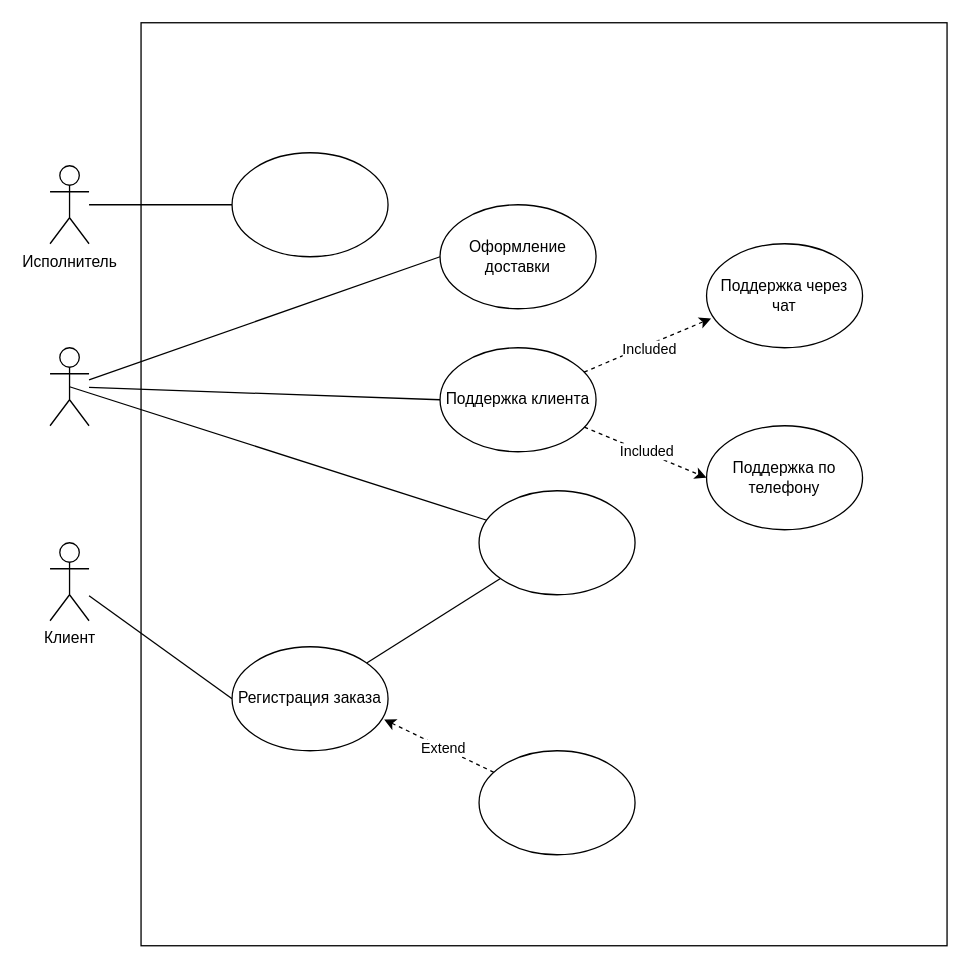
This 970x968 diagram has some shape labels left out. The shapes that lost their labels are listed below. From the top down, each one's centre as x and y in pixels, then its label:
point (309, 204): Работа с заказом
point (69, 386): Менеджер
point (556, 542): Отслеживание статуса заказа
point (556, 802): Регистрация через телеграмм бот
